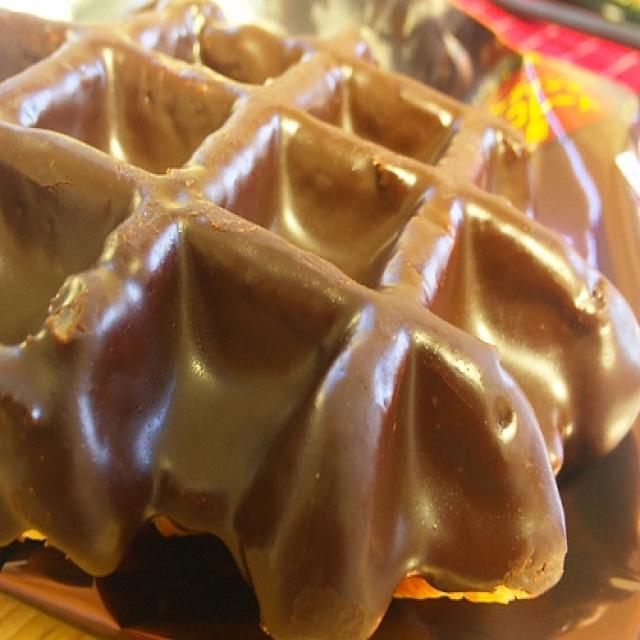汤锅炖物: (0, 56, 635, 625)
